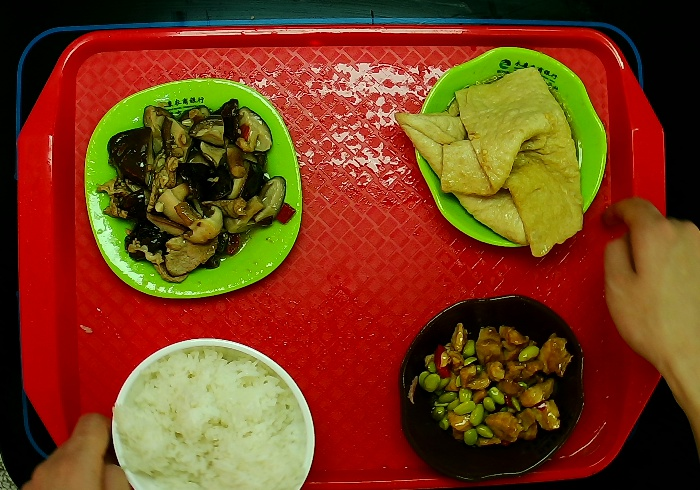YKMZ-Fan_Wan: (108, 333, 317, 490)
YKMZ-Ka_Fei_Ao_Bian_Wan: (396, 287, 595, 490)
YKMZ-Lv_Se_Ao_Bian_Wan: (402, 41, 615, 254)
YKMZ-Lv_Se_Fang_Die: (81, 71, 310, 303)
